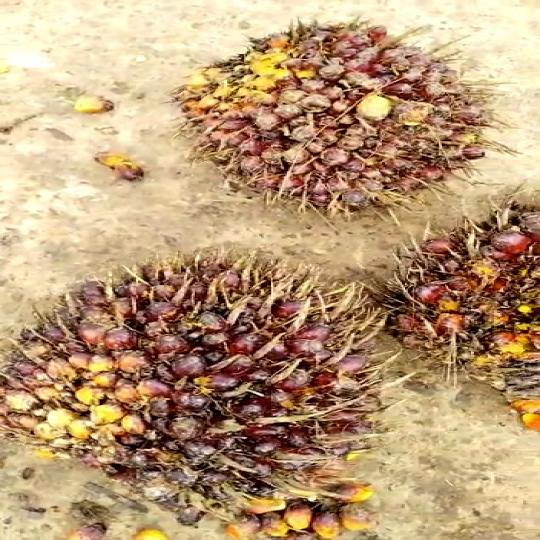masak: (0, 252, 386, 493), (167, 18, 517, 233)
